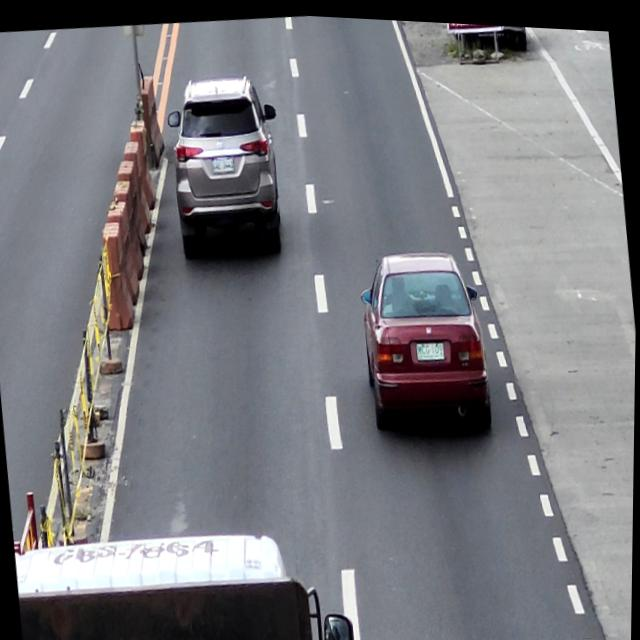Car: (355, 238, 499, 440), (162, 66, 291, 263)
License-Plate: (416, 334, 446, 358), (211, 155, 235, 174)
Truck: (14, 504, 363, 640)
